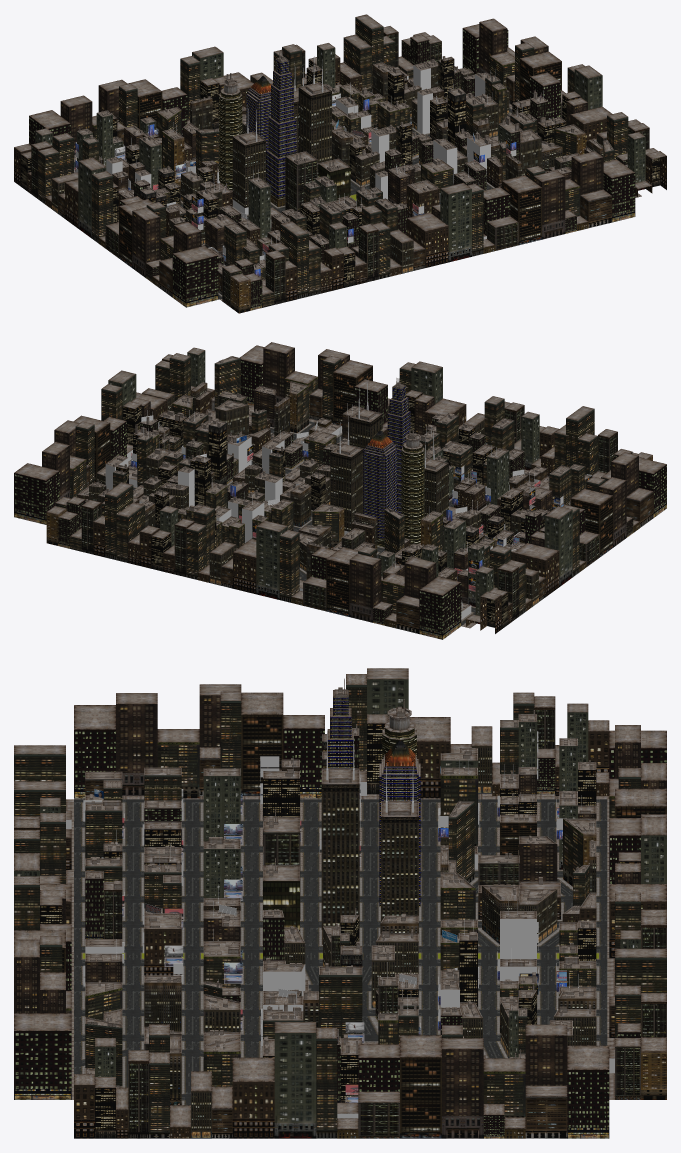
File: city night final.fbx
3 renders of one model, top to bottom at view 1: azimuth 30°, elevation 25°; view 2: azimuth 150°, elevation 25°; view 3: azimuth 270°, elevation 25°, orthographic. The views are drawn at different scales.
Visible parts, largest first — view 1: b_44, b_9, b_1, b_8, b_10, b_42, b_4, b_3, b_11, b_12, Plane25_wall2b_0, Plane25_wall2i_0 (+16 smaller); view 2: b_44, b_8, b_9, b_1, b_42, b_10, b_3, b_5, b_12, b_6, b_4, b_11 (+16 smaller); view 3: b_44, b_35, b_1, b_9, b_8, b_3, b_42, b_10, b_4, Plane25_wall2b_0, b_6, b_12 (+16 smaller).
Boxes of the visible parts, bbox=[...] form: b_44: bbox=[14, 14, 666, 300]; b_9: bbox=[35, 46, 645, 262]; b_1: bbox=[60, 22, 603, 277]; b_8: bbox=[52, 17, 628, 299]; b_10: bbox=[20, 59, 660, 287]; b_42: bbox=[29, 28, 635, 307]; b_4: bbox=[120, 37, 627, 310]; b_3: bbox=[92, 56, 580, 279]; b_11: bbox=[65, 71, 606, 293]; b_12: bbox=[51, 62, 606, 273]; Plane25_wall2b_0: bbox=[232, 87, 331, 207]; Plane25_wall2i_0: bbox=[246, 59, 296, 199]; b_44: bbox=[14, 342, 666, 628]; b_8: bbox=[101, 357, 594, 602]; b_9: bbox=[108, 350, 572, 623]; b_1: bbox=[42, 348, 638, 622]; b_42: bbox=[14, 359, 666, 639]; b_10: bbox=[116, 393, 544, 628]; b_3: bbox=[70, 377, 589, 613]; b_5: bbox=[75, 359, 605, 616]; b_12: bbox=[89, 393, 538, 606]; b_6: bbox=[94, 366, 613, 616]; b_4: bbox=[58, 385, 633, 625]; b_11: bbox=[77, 399, 559, 596]; b_44: bbox=[14, 668, 666, 1129]; b_35: bbox=[74, 717, 607, 1105]; b_1: bbox=[14, 695, 666, 1138]; b_9: bbox=[14, 679, 666, 1138]; b_8: bbox=[14, 685, 666, 1138]; b_3: bbox=[66, 742, 614, 1117]; b_42: bbox=[14, 729, 666, 1138]; b_10: bbox=[40, 723, 640, 1138]; b_4: bbox=[66, 728, 640, 1138]; Plane25_wall2b_0: bbox=[321, 784, 418, 932]; b_6: bbox=[62, 714, 666, 1138]; b_12: bbox=[191, 746, 596, 1138].
Bounding box in the file's own units: 543698 × 161729 × 411354.
